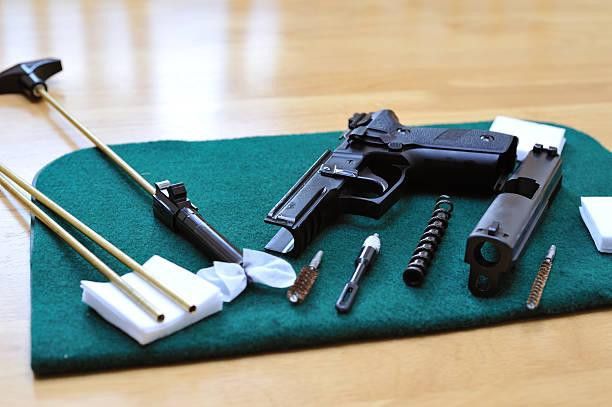weapon: (265, 109, 514, 255)
